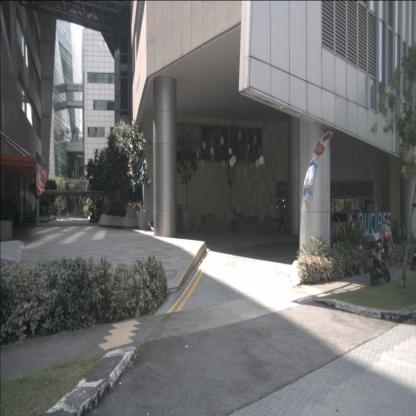human-pedestrian-adult: (378, 216, 396, 277), (277, 203, 287, 233), (230, 210, 238, 232)
vehicle-car: (330, 210, 365, 243)
vehicle-motorcycle: (361, 231, 390, 286), (411, 237, 415, 272)
